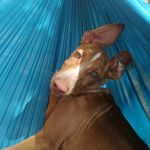puppy: (44, 19, 134, 150)
